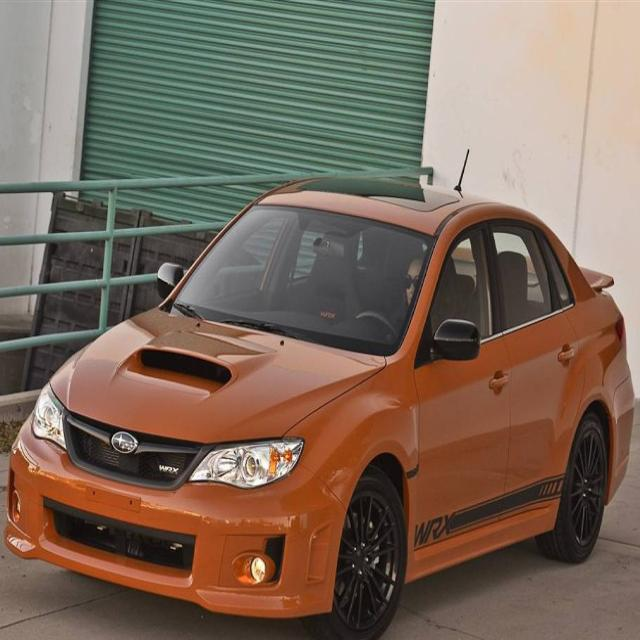door: (486, 218, 586, 536)
front_bumper: (4, 412, 350, 623)
front_glass: (172, 200, 436, 354)
front_left_side_door: (406, 210, 516, 578)
front_left_side_light: (185, 436, 306, 492)
front_left_side_mirror: (426, 317, 483, 364)
front_right_side_light: (29, 379, 69, 456)
front_right_side_mirror: (154, 260, 188, 298)
wheel: (322, 474, 408, 638), (537, 416, 610, 563)
